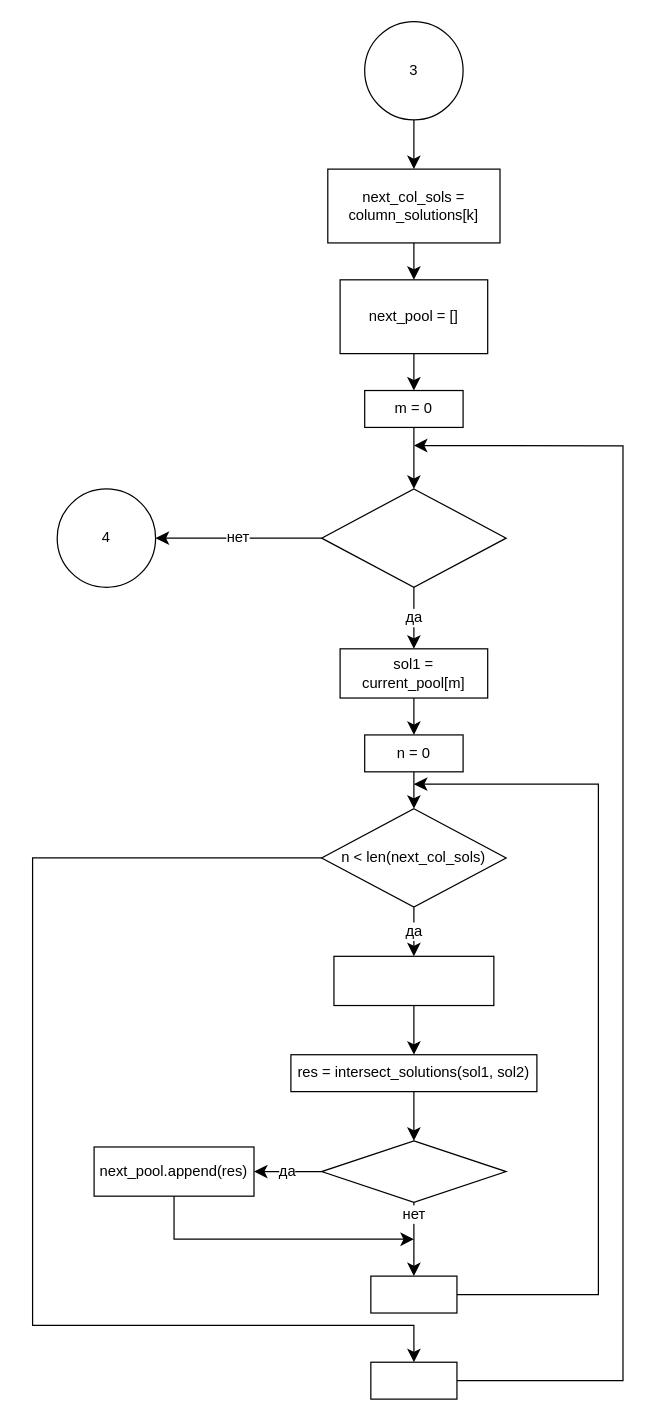
This 657x1421 diagram has some shape labels left out. Here are the shapes that lost their labels. From the top down, the centre of each, then its label:
At pixel 413 537: "m < len(current_pool)".
At pixel 413 980: "sol2 = next_col_sols[n]".
At pixel 413 1171: "res != None".
At pixel 413 1294: "n += 1".
At pixel 413 1380: "m += 1".
